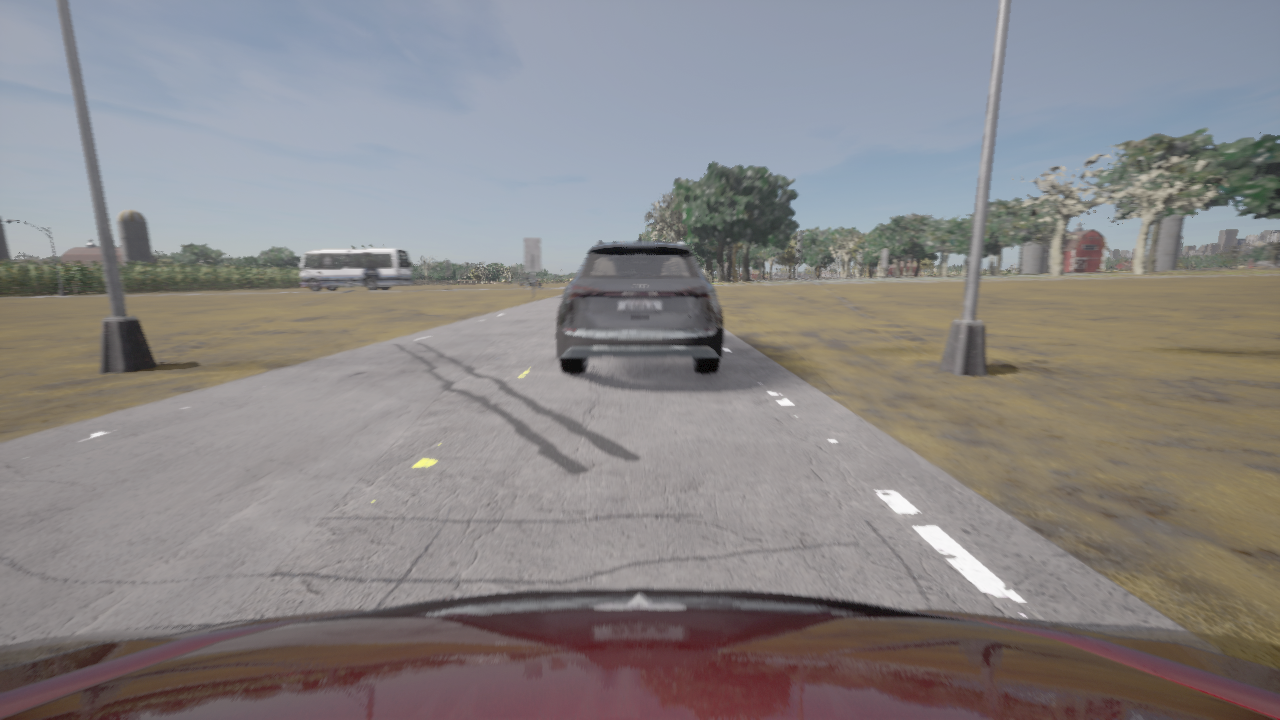cyclist: (0, 588, 1279, 719), (556, 237, 722, 374), (298, 248, 412, 291), (520, 275, 541, 288), (655, 240, 659, 241)
